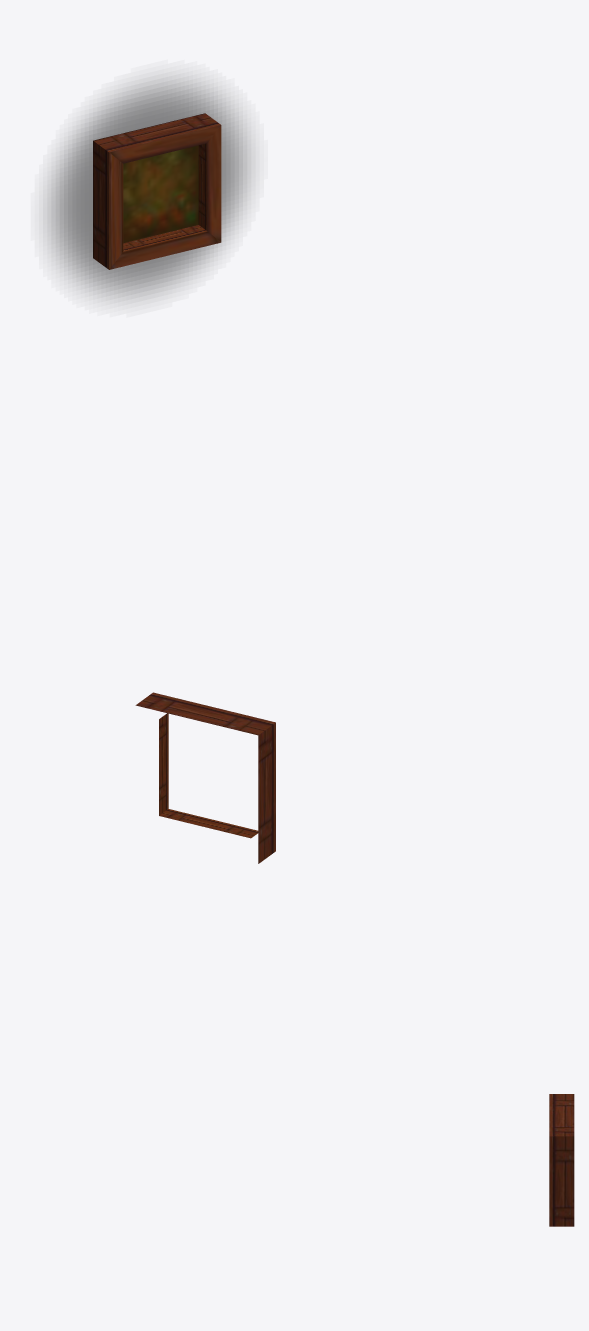
Rendered from prop_snow_tree_large_woodbox_ur.glb.
3 renders of one model, top to bottom at view 1: azimuth 30°, elevation 25°; view 2: azimuth 150°, elevation 25°; view 3: azimuth 270°, elevation 25°, orthographic. The views are drawn at different scales.
Parts seen in each view (by area): view 1: shadow_snow_tree_large_woodbox_ur, tree_planter_box3_1; view 2: tree_planter_box3_1; view 3: tree_planter_box3_1.
Boxes of the visible parts, x1=… form: shadow_snow_tree_large_woodbox_ur: x1=47, y1=77, x2=250, y2=300; tree_planter_box3_1: x1=93, y1=113, x2=221, y2=269; tree_planter_box3_1: x1=135, y1=692, x2=275, y2=863; tree_planter_box3_1: x1=549, y1=1094, x2=574, y2=1226.
Size of the model in its own units: 13.99 by 12.32 by 29.17.
Materials: 5 (5 with a texture image).
